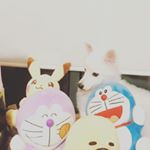puppy: (73, 40, 126, 93)
